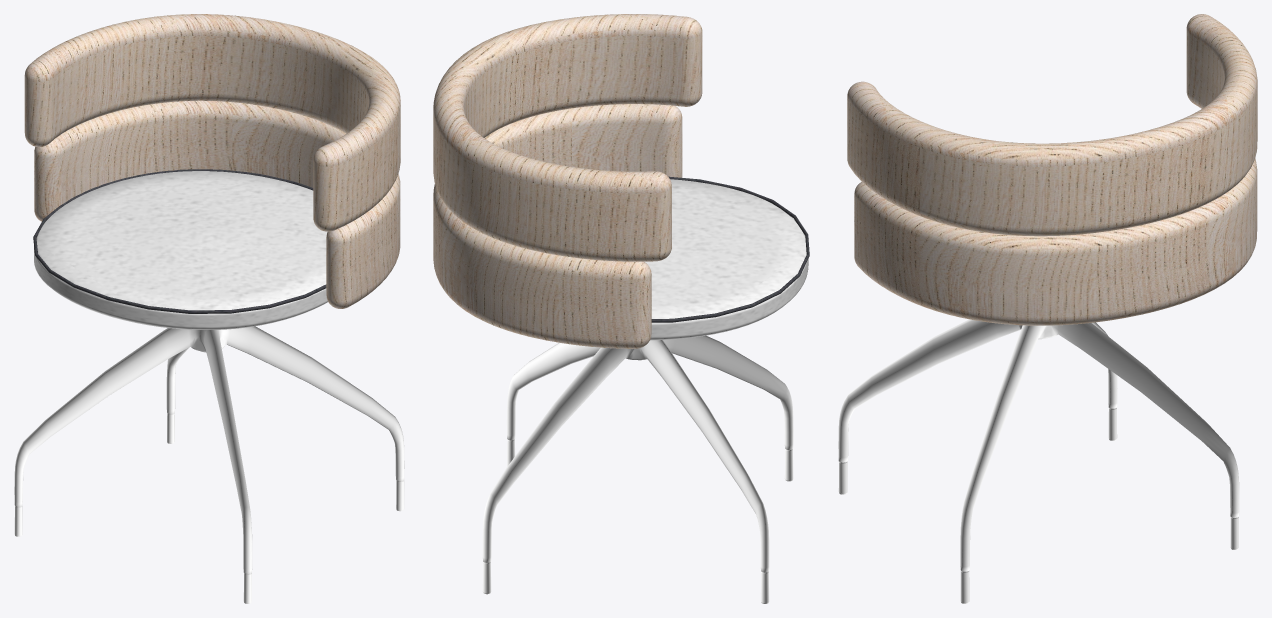
Rendered from SampleItem.obj.
The picture shows the model from 3 angles, left to right: view 1: azimuth 30°, elevation 25°; view 2: azimuth 150°, elevation 25°; view 3: azimuth 270°, elevation 25°; orthographic projection. The views are drawn at different scales.
Visible parts, largest first — view 1: ChamferBox004, Spindle002, ChamferBox005, obj_005, Loft002; view 2: ChamferBox004, ChamferBox005, Spindle002, obj_005, Loft002; view 3: ChamferBox004, ChamferBox005, obj_005.
Boxes of the visible parts, <box> form: ChamferBox004: <box>24,14,400,231</box>; Spindle002: <box>34,171,327,329</box>; ChamferBox005: <box>34,100,400,308</box>; obj_005: <box>14,326,404,603</box>; Loft002: <box>33,169,326,313</box>; ChamferBox004: <box>433,14,702,261</box>; ChamferBox005: <box>433,104,682,348</box>; Spindle002: <box>644,179,808,340</box>; obj_005: <box>482,335,793,603</box>; Loft002: <box>651,176,809,322</box>; ChamferBox004: <box>847,14,1257,236</box>; ChamferBox005: <box>854,158,1257,325</box>; obj_005: <box>838,319,1239,603</box>.
Bounding box in the file's own units: 4.39 × 5.46 × 4.54.
Materials: 4 (3 with a texture image).
